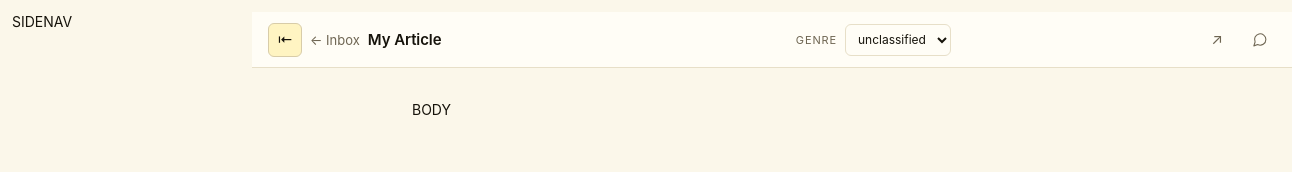
Test: ReaderLayout › toggles the nav
Expected: the text "SIDENAV" is shown, [12,13,72,30]
Click the button named "Hide sidebar" at (285, 40), box [268,22,302,56]
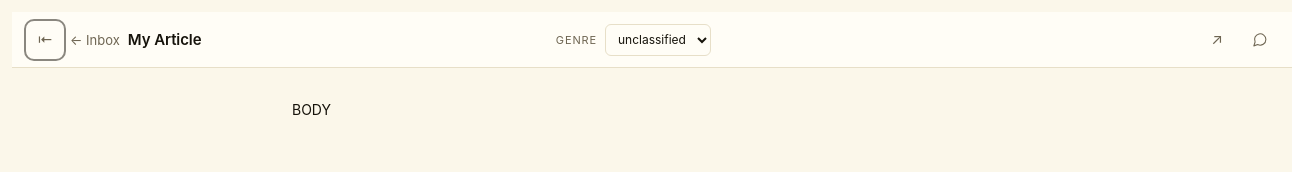
Result: the text "SIDENAV" is gone
